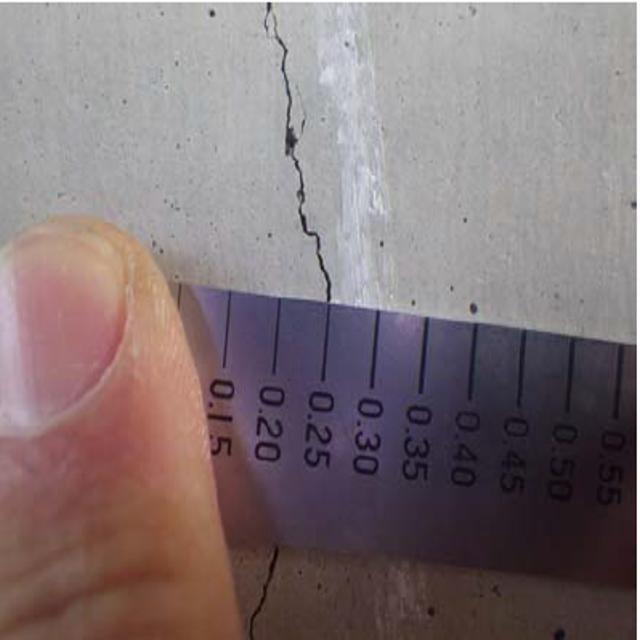crack: (248, 6, 348, 297), (228, 534, 302, 639)
